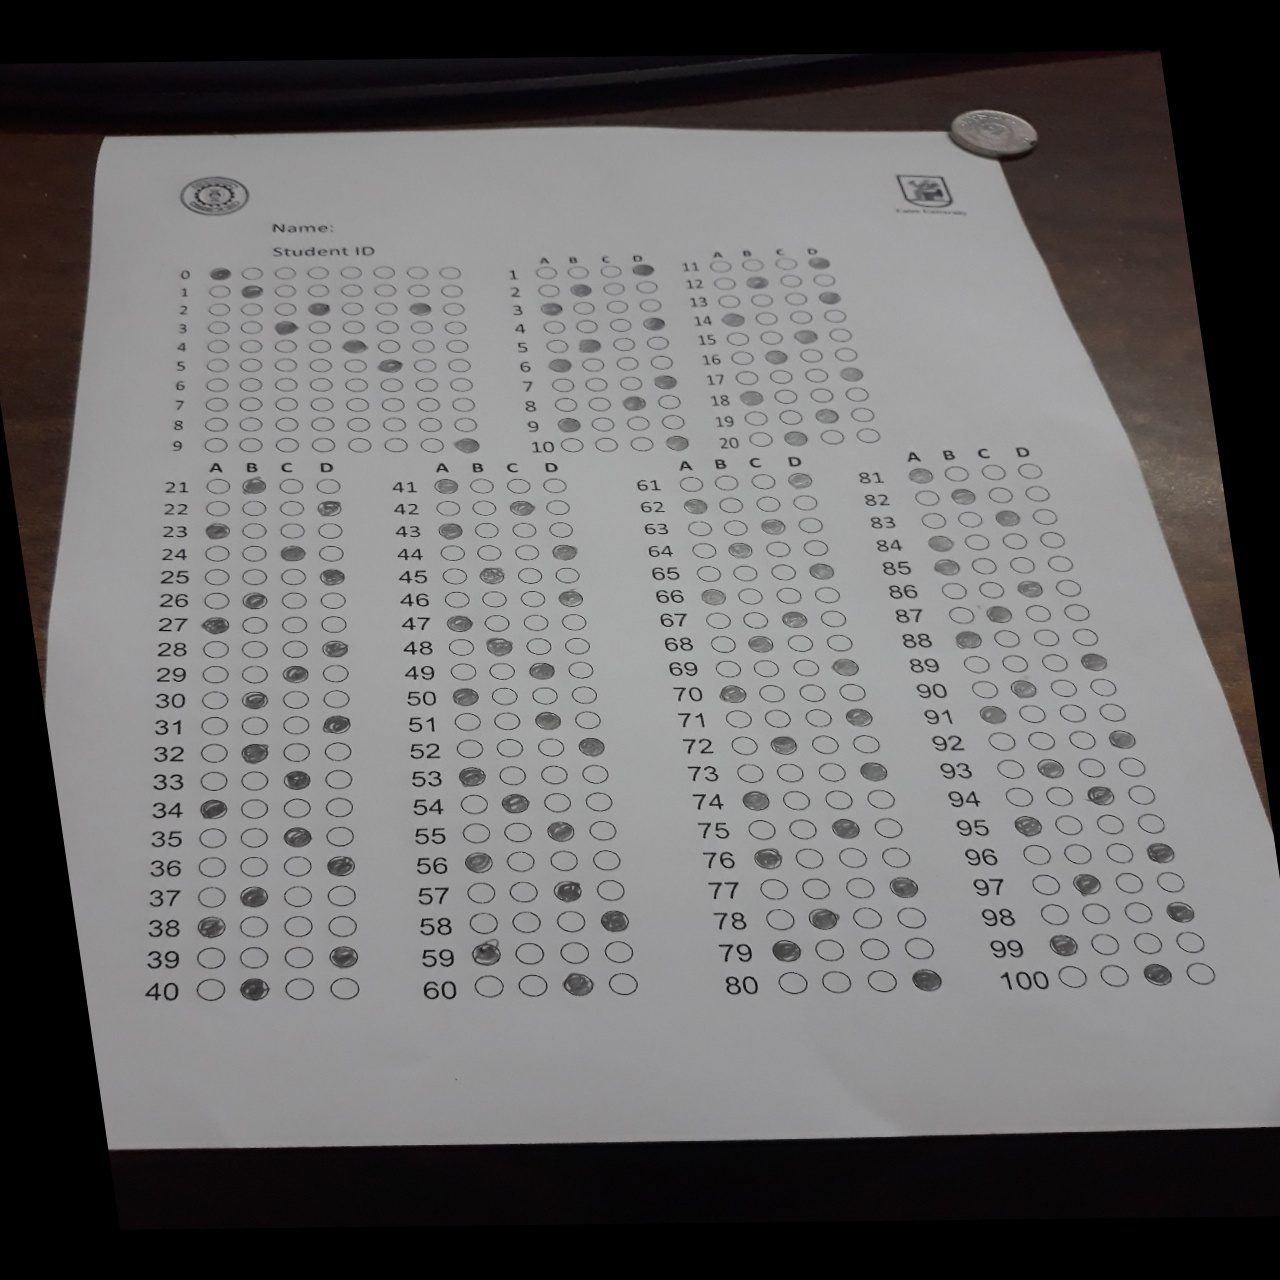not-c: (280, 944, 316, 968), (236, 914, 273, 938), (279, 913, 316, 937), (237, 944, 272, 968), (192, 978, 229, 1001), (193, 945, 230, 968), (322, 883, 359, 906), (279, 884, 315, 907), (193, 855, 230, 878), (280, 855, 316, 878), (196, 742, 232, 765), (896, 905, 930, 930), (799, 876, 833, 900), (779, 788, 813, 812), (772, 760, 806, 784), (733, 760, 767, 784), (726, 733, 760, 757), (327, 975, 361, 1000), (516, 973, 551, 996), (193, 884, 229, 907), (195, 825, 230, 849), (324, 914, 360, 937), (236, 855, 272, 877), (277, 712, 313, 734), (278, 688, 314, 710), (812, 937, 845, 961), (756, 876, 789, 900), (871, 815, 904, 839), (787, 816, 819, 840), (864, 787, 897, 811), (808, 731, 840, 756), (903, 935, 937, 959), (764, 907, 798, 931), (842, 874, 876, 898), (835, 844, 869, 867), (744, 817, 778, 840), (821, 788, 855, 811), (813, 760, 847, 783), (801, 706, 835, 729), (281, 978, 316, 1000), (238, 769, 273, 791), (321, 767, 356, 789), (279, 741, 314, 763), (819, 969, 852, 993), (775, 971, 808, 994), (858, 937, 891, 960), (850, 905, 883, 928), (878, 845, 911, 869), (474, 974, 506, 998), (195, 770, 231, 791), (197, 689, 233, 710), (792, 847, 826, 870), (849, 731, 883, 754), (506, 880, 540, 903), (467, 912, 501, 934), (509, 910, 543, 932), (554, 908, 588, 931), (593, 878, 627, 900), (602, 940, 636, 962), (322, 826, 358, 847), (321, 797, 356, 818), (279, 797, 314, 818), (236, 798, 271, 819), (322, 740, 358, 761), (198, 714, 233, 735), (237, 715, 272, 736), (319, 688, 354, 709), (1020, 842, 1053, 864), (1029, 872, 1062, 894), (1112, 871, 1145, 893), (1089, 933, 1122, 955), (1098, 964, 1131, 986), (559, 941, 592, 964), (605, 972, 638, 994), (760, 707, 794, 728), (835, 681, 869, 702), (464, 881, 498, 903), (1039, 903, 1070, 925), (1131, 932, 1163, 954), (1173, 930, 1205, 952), (1055, 965, 1087, 987), (237, 828, 272, 847), (1122, 901, 1155, 922), (1184, 962, 1217, 983), (722, 707, 755, 728), (795, 682, 828, 703), (789, 656, 822, 678), (706, 633, 738, 654), (783, 632, 816, 653), (512, 942, 545, 964), (238, 663, 271, 685), (237, 615, 270, 636), (1155, 870, 1185, 892), (712, 658, 745, 678), (765, 561, 799, 581), (198, 663, 232, 683), (316, 613, 350, 633), (316, 590, 350, 610), (275, 520, 309, 540), (1080, 903, 1111, 924), (865, 969, 897, 990), (442, 588, 474, 610), (459, 822, 491, 843), (591, 849, 622, 870), (549, 850, 580, 871), (755, 682, 788, 702), (749, 658, 782, 678), (816, 608, 849, 628), (738, 610, 771, 629), (701, 610, 734, 629), (578, 763, 611, 783), (501, 821, 533, 840), (277, 639, 309, 659), (199, 640, 232, 660), (200, 590, 233, 610), (200, 567, 233, 587), (277, 565, 309, 585), (237, 543, 270, 563), (314, 542, 347, 561), (314, 520, 347, 540), (1116, 755, 1146, 776), (1125, 783, 1156, 804), (1043, 785, 1074, 806), (1051, 813, 1082, 835), (316, 663, 350, 682), (200, 544, 234, 563), (1094, 813, 1125, 833), (772, 584, 804, 604), (811, 584, 843, 604), (729, 563, 761, 583), (468, 498, 499, 518), (516, 588, 547, 608), (542, 791, 573, 811), (458, 794, 490, 813), (585, 821, 617, 840), (1136, 812, 1165, 833), (1104, 840, 1133, 862), (1063, 843, 1092, 864), (733, 586, 765, 605), (238, 639, 271, 658), (279, 615, 312, 634), (277, 591, 309, 610), (237, 567, 270, 586), (978, 461, 1008, 481), (1037, 529, 1068, 549), (1007, 554, 1037, 574), (1039, 651, 1069, 670), (1075, 757, 1105, 777), (693, 563, 723, 583), (799, 537, 830, 557), (795, 515, 825, 535), (721, 517, 751, 537), (751, 493, 782, 513), (474, 542, 504, 561), (478, 588, 509, 608), (482, 612, 512, 632), (445, 636, 476, 656), (568, 685, 599, 704), (489, 686, 519, 706), (452, 712, 483, 731), (505, 851, 536, 871), (1027, 506, 1058, 525), (824, 633, 856, 652), (542, 497, 573, 516), (508, 520, 539, 539), (520, 613, 552, 632), (447, 662, 478, 681), (493, 738, 525, 757), (455, 738, 486, 757), (538, 765, 570, 784), (583, 791, 614, 810), (275, 498, 307, 517), (1015, 461, 1044, 481), (954, 508, 983, 527), (1005, 787, 1034, 806), (911, 488, 941, 506), (917, 510, 947, 529), (945, 605, 975, 624), (1069, 626, 1099, 645), (960, 654, 990, 673), (1085, 676, 1116, 695), (1065, 729, 1096, 748), (986, 731, 1016, 750), (817, 427, 847, 445), (763, 539, 794, 558), (749, 471, 779, 490), (545, 519, 576, 538), (504, 475, 535, 493), (467, 476, 497, 495), (470, 520, 501, 539), (440, 566, 470, 585), (515, 565, 545, 584), (552, 564, 583, 583), (558, 611, 588, 629), (565, 659, 595, 678), (527, 686, 558, 704), (491, 712, 522, 730), (572, 710, 602, 729), (497, 765, 527, 784), (239, 520, 270, 539), (789, 492, 821, 510), (522, 636, 553, 654), (203, 476, 234, 493), (275, 477, 307, 495), (986, 484, 1015, 503), (968, 556, 998, 574), (1051, 578, 1081, 597), (976, 579, 1006, 598), (940, 580, 969, 599), (1022, 602, 1051, 621), (990, 628, 1020, 647), (853, 425, 883, 444), (685, 518, 714, 537), (716, 495, 745, 513), (712, 474, 741, 492), (675, 474, 704, 492), (512, 543, 542, 561), (437, 544, 467, 563), (561, 636, 591, 655), (1021, 484, 1051, 502), (999, 531, 1029, 549), (960, 533, 990, 551), (1060, 602, 1090, 620), (1047, 678, 1077, 695), (1096, 703, 1126, 721), (994, 760, 1024, 777), (688, 542, 719, 559), (431, 499, 462, 517), (485, 662, 516, 680), (535, 738, 565, 756), (238, 498, 268, 516), (1058, 702, 1087, 721), (312, 477, 343, 493), (942, 464, 972, 482), (1044, 554, 1074, 572), (1032, 628, 1061, 646), (999, 654, 1028, 672), (969, 680, 999, 697), (1017, 704, 1047, 722), (1026, 731, 1055, 749), (540, 476, 570, 493), (202, 499, 232, 516), (796, 347, 824, 365), (808, 387, 835, 404), (767, 367, 794, 384), (772, 386, 799, 403), (776, 408, 803, 425), (832, 346, 860, 362), (758, 329, 787, 346), (847, 406, 874, 422), (802, 366, 829, 382), (729, 349, 756, 366), (826, 326, 853, 342), (733, 369, 761, 384), (843, 386, 870, 401), (742, 410, 769, 425), (747, 430, 774, 445), (659, 414, 686, 429), (588, 416, 615, 431), (418, 437, 445, 452), (346, 437, 373, 452), (309, 437, 336, 452), (274, 437, 301, 452), (238, 436, 265, 451), (203, 437, 230, 452), (273, 417, 300, 433), (345, 416, 372, 431), (342, 358, 369, 373), (308, 396, 335, 411), (204, 338, 231, 353), (206, 320, 233, 335), (206, 300, 233, 315), (206, 282, 233, 298), (238, 301, 265, 316), (238, 320, 265, 335), (273, 301, 300, 316), (306, 319, 333, 334), (306, 338, 333, 353), (339, 300, 366, 315), (373, 301, 400, 316), (374, 319, 401, 334), (408, 338, 435, 353), (443, 319, 470, 334), (437, 264, 464, 279), (403, 265, 430, 280), (372, 263, 399, 278), (338, 264, 365, 279), (304, 264, 331, 279), (272, 265, 299, 280), (445, 358, 474, 372), (343, 397, 372, 411), (754, 309, 779, 325), (565, 264, 591, 279), (592, 436, 618, 451), (559, 437, 585, 452), (203, 417, 229, 433), (237, 416, 263, 431), (416, 396, 442, 411), (449, 376, 475, 392), (307, 376, 333, 392), (272, 376, 298, 392), (274, 396, 300, 411), (237, 395, 263, 410), (238, 376, 264, 392), (203, 396, 229, 411), (239, 338, 265, 353), (273, 338, 299, 353), (340, 319, 366, 334), (440, 282, 465, 298), (441, 301, 467, 316), (238, 265, 264, 280), (778, 273, 805, 287), (644, 335, 670, 349), (583, 377, 610, 392), (379, 377, 406, 392), (413, 377, 440, 392), (411, 358, 438, 372), (343, 377, 370, 392), (306, 358, 333, 372), (338, 282, 365, 297), (376, 338, 403, 352), (444, 338, 471, 352), (416, 416, 441, 431), (272, 282, 297, 298), (726, 331, 751, 345), (788, 309, 813, 324), (822, 308, 847, 322), (783, 290, 809, 304), (712, 275, 737, 290), (738, 257, 764, 271), (772, 256, 798, 270), (810, 272, 836, 286), (536, 282, 561, 297), (633, 279, 659, 293), (638, 298, 663, 312), (605, 299, 631, 313), (570, 300, 595, 314), (543, 320, 568, 334), (611, 336, 636, 350), (544, 338, 570, 352), (649, 355, 675, 369), (615, 355, 641, 369), (581, 358, 607, 372), (618, 375, 644, 389), (550, 377, 576, 392), (553, 397, 579, 411), (586, 396, 612, 410), (625, 415, 651, 429), (628, 436, 654, 450), (452, 417, 478, 431), (383, 437, 409, 451), (309, 416, 335, 430), (381, 417, 407, 431), (381, 397, 407, 411), (450, 397, 476, 411), (273, 358, 299, 372), (238, 358, 264, 372), (204, 358, 230, 372), (204, 377, 230, 392), (306, 282, 332, 297), (372, 282, 397, 297), (408, 320, 434, 334), (406, 282, 431, 297), (750, 293, 775, 307), (716, 294, 741, 308), (599, 263, 624, 277), (535, 265, 559, 279), (601, 282, 626, 297), (576, 318, 600, 332), (608, 316, 633, 331), (658, 394, 682, 408), (709, 259, 734, 272)
taken-c: (559, 972, 595, 998), (595, 907, 632, 932), (1033, 756, 1067, 778), (949, 627, 983, 649), (279, 826, 314, 847), (463, 851, 498, 872), (910, 969, 942, 992), (1049, 933, 1082, 955), (974, 702, 1007, 724), (1009, 676, 1042, 699), (237, 978, 271, 999), (469, 942, 503, 964), (806, 908, 840, 930), (768, 939, 802, 960), (1073, 871, 1104, 893), (1083, 783, 1115, 805), (1145, 842, 1177, 864), (1109, 727, 1141, 749), (195, 798, 230, 818), (321, 856, 356, 876), (326, 946, 361, 966), (549, 881, 584, 901), (498, 792, 531, 813), (454, 765, 486, 787), (886, 876, 919, 897), (1163, 900, 1196, 921), (1013, 815, 1046, 836), (983, 601, 1016, 622), (237, 886, 271, 906), (196, 917, 230, 937), (543, 821, 577, 840), (1141, 964, 1175, 983), (1077, 651, 1110, 670), (576, 736, 607, 756), (533, 710, 563, 731), (527, 659, 557, 680), (451, 687, 481, 708), (697, 585, 728, 605), (924, 533, 955, 552), (437, 520, 467, 540), (805, 560, 835, 580), (829, 658, 858, 678), (279, 663, 309, 682), (905, 467, 935, 485), (549, 540, 577, 560), (433, 475, 461, 495), (785, 469, 813, 489), (719, 682, 747, 702), (858, 760, 886, 779), (753, 849, 781, 869), (318, 640, 349, 658), (485, 636, 515, 655), (757, 516, 787, 535), (779, 610, 809, 628), (844, 707, 873, 726), (832, 818, 862, 837), (931, 557, 960, 576), (281, 770, 312, 788), (1014, 579, 1044, 597), (994, 508, 1024, 525), (445, 614, 474, 633), (554, 587, 583, 606), (508, 498, 536, 517), (682, 496, 710, 515), (726, 542, 754, 560), (240, 690, 270, 708), (475, 566, 504, 584), (947, 486, 976, 504), (837, 366, 867, 382), (279, 544, 309, 560), (320, 715, 350, 731), (238, 744, 268, 761), (747, 634, 775, 652), (767, 735, 795, 753), (741, 791, 769, 809), (238, 477, 267, 493), (241, 591, 271, 607), (816, 290, 846, 305), (638, 315, 668, 331), (304, 301, 334, 316), (272, 320, 302, 335), (316, 568, 347, 584), (812, 408, 840, 424), (651, 373, 679, 389), (556, 415, 584, 431), (404, 300, 433, 316), (760, 349, 789, 365), (662, 435, 692, 450), (538, 301, 567, 316), (566, 282, 595, 298), (451, 437, 481, 452), (314, 501, 343, 516), (204, 523, 233, 538), (735, 390, 765, 404), (717, 313, 745, 328), (629, 261, 658, 277), (618, 394, 646, 409), (374, 358, 404, 372), (339, 339, 369, 353), (206, 264, 234, 279), (200, 617, 229, 632), (804, 254, 833, 268), (743, 274, 772, 288), (782, 431, 811, 445), (544, 358, 573, 372), (794, 329, 822, 343), (574, 338, 602, 352), (239, 282, 266, 297)
